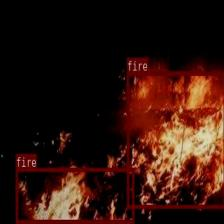fire: (126, 71, 224, 207), (15, 167, 134, 223)
